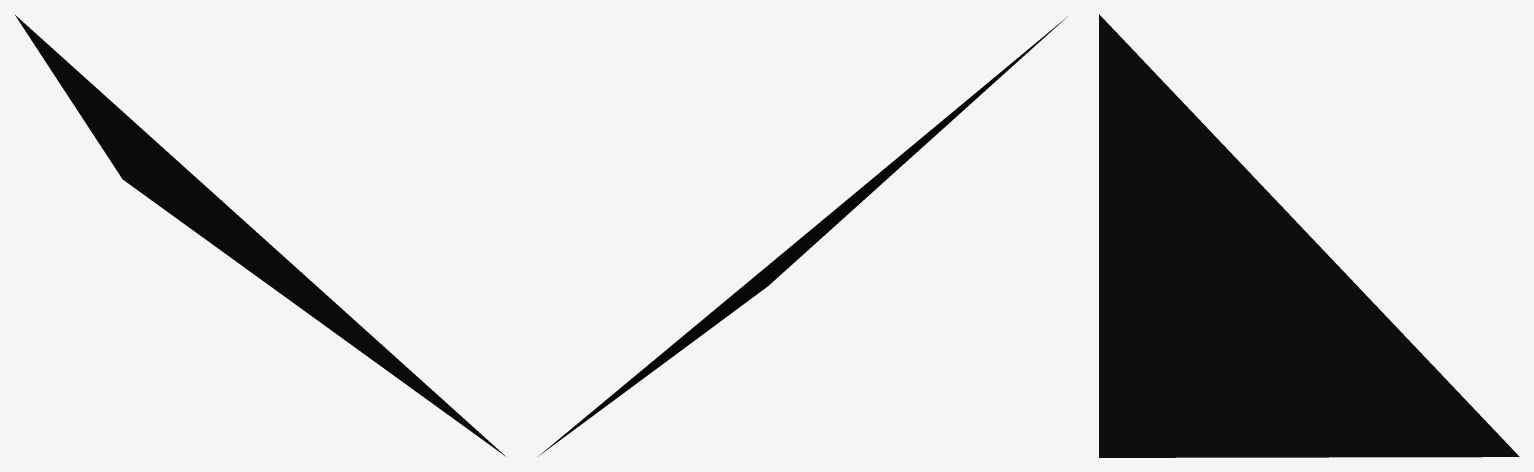
The picture shows the model from 3 angles, left to right: view 1: azimuth 30°, elevation 25°; view 2: azimuth 150°, elevation 25°; view 3: azimuth 270°, elevation 25°; orthographic projection. The views are drawn at different scales.
Bounding box in the file's own units: 0.5907 × 0.6455 × 0.7914.
Materials: 1 (1 with a texture image).
